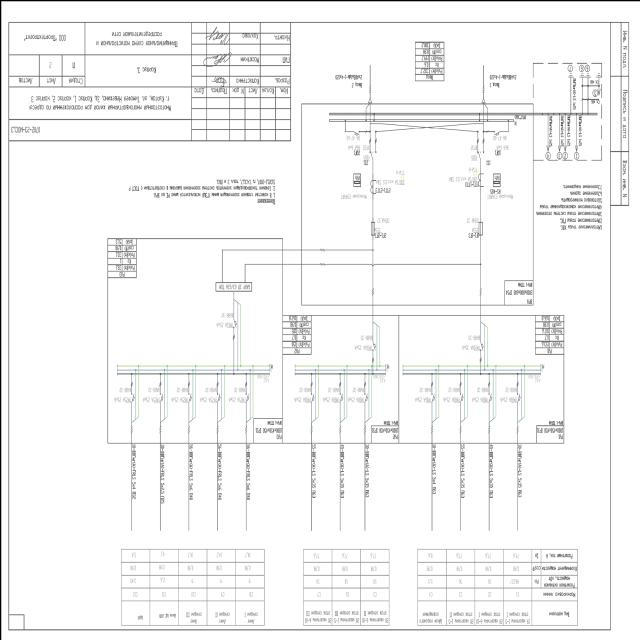-: (503, 276, 532, 298), (374, 168, 404, 186), (447, 167, 477, 181), (372, 215, 390, 232), (487, 187, 512, 199), (344, 134, 360, 150), (492, 134, 508, 150), (465, 216, 478, 232), (340, 191, 366, 199), (470, 144, 478, 160), (362, 142, 369, 159)
FU: (370, 220, 375, 236), (478, 220, 482, 236)
QF: (485, 128, 501, 136), (351, 128, 366, 136)
TT: (369, 178, 376, 194), (477, 172, 484, 188)
WH: (491, 171, 500, 187), (352, 171, 361, 187)
switch: (368, 148, 376, 161), (476, 148, 484, 161)
